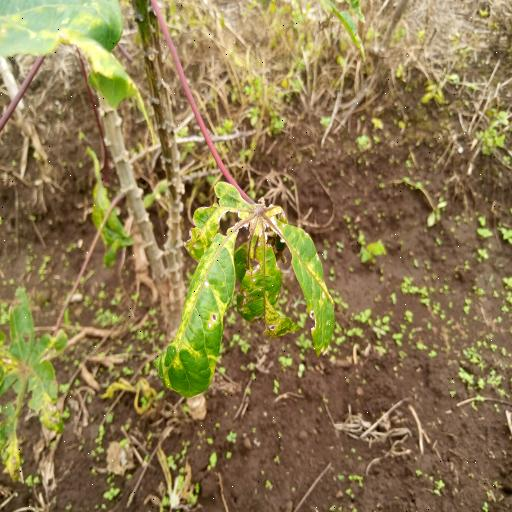Cassava_Mosaic: (162, 183, 332, 401)
